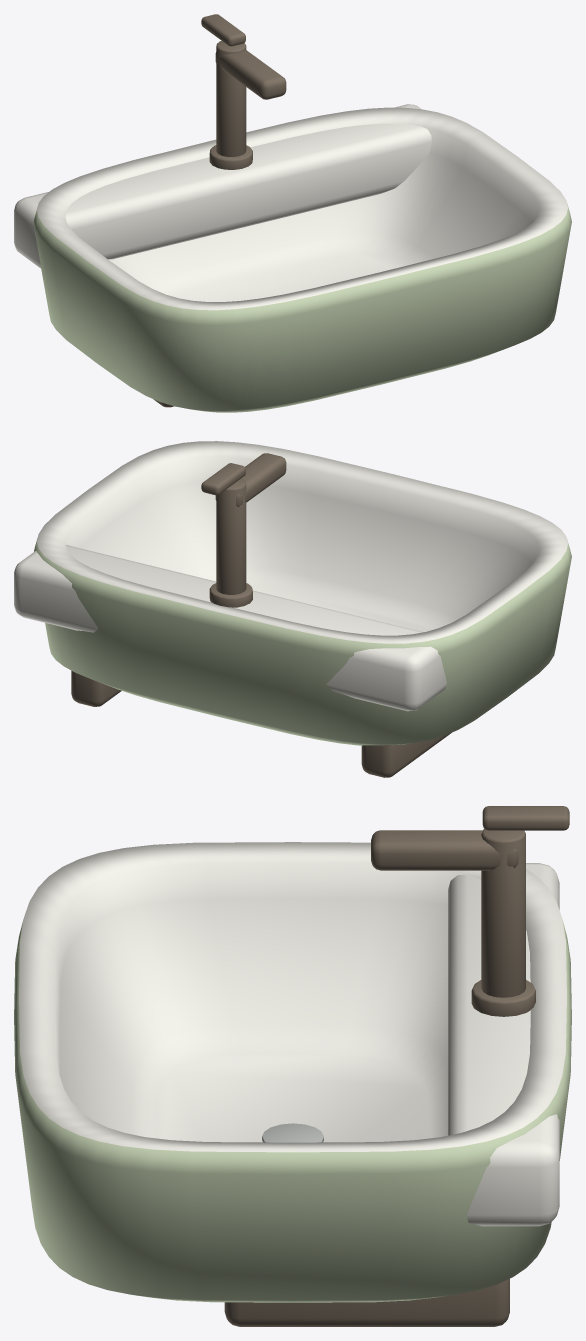
The model's file is wall-hung-sink.glb.
3 views of the same model, one above another, from view 1: azimuth 30°, elevation 25°; view 2: azimuth 150°, elevation 25°; view 3: azimuth 270°, elevation 25° (orthographic). The views are drawn at different scales.
Parts seen in each view (by area): view 1: wall-hung-sink; view 2: wall-hung-sink; view 3: wall-hung-sink.
Boxes of the visible parts, left/top/right/bottom form: wall-hung-sink: left=14, top=14, right=571, bottom=412; wall-hung-sink: left=14, top=441, right=571, bottom=777; wall-hung-sink: left=14, top=806, right=571, bottom=1326.
Size of the model in its own units: 0.6 by 0.36 by 0.45.
